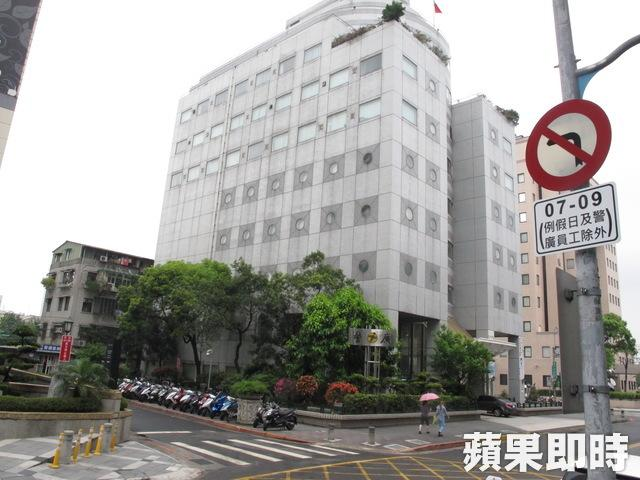no_left_turn: (524, 98, 612, 190)
